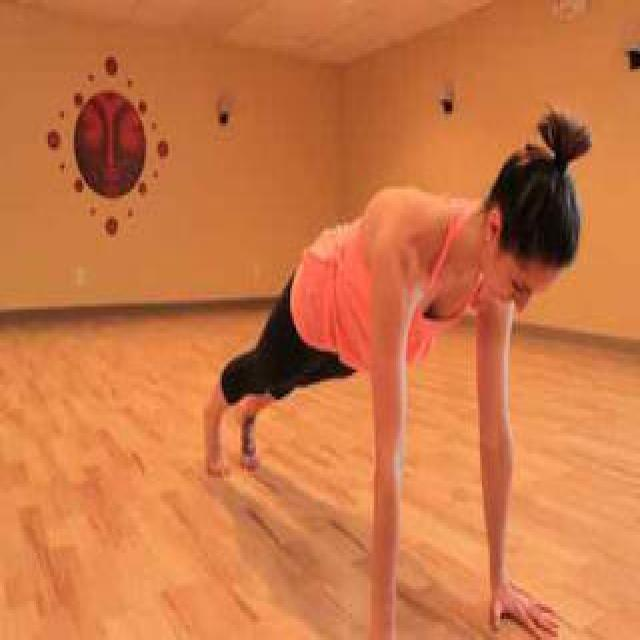yoga-pose plank: (205, 132, 580, 635)
